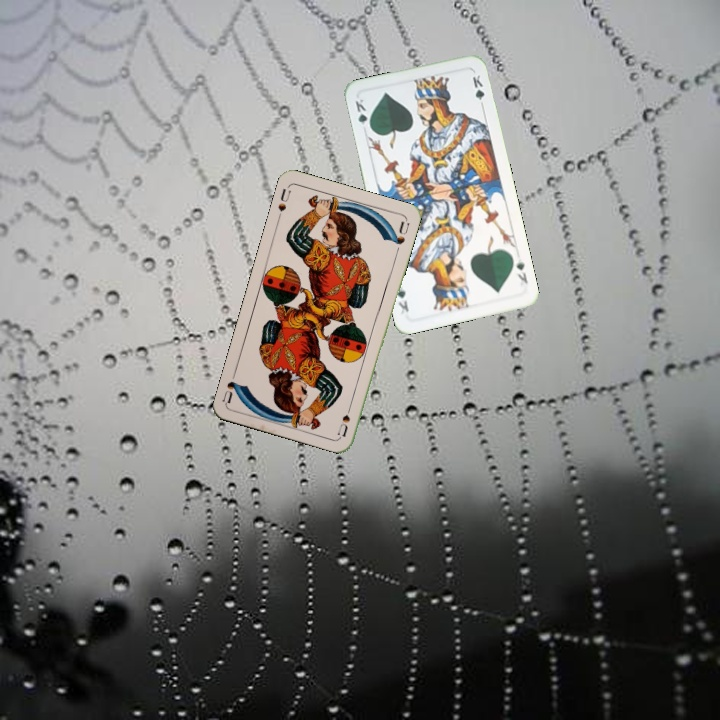GK: (351, 94, 374, 133), (511, 255, 530, 286)
SU: (333, 398, 355, 439), (274, 183, 293, 223)
